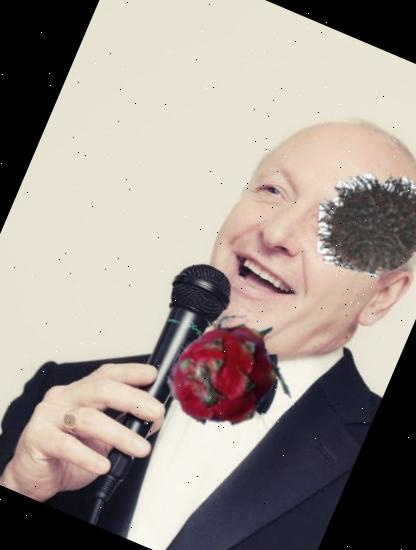Pitahaya: (145, 292, 304, 452)
Rambutan: (299, 147, 416, 302)
